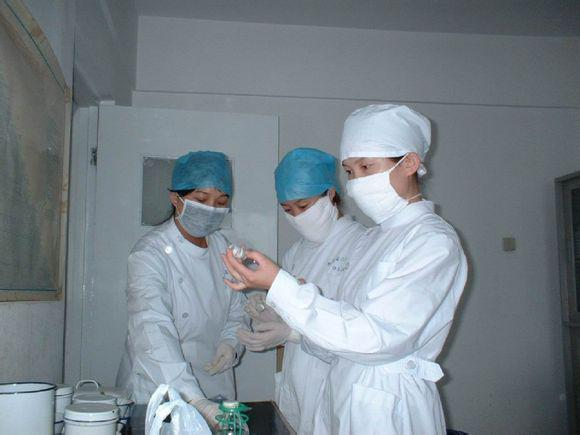OK: (348, 161, 419, 220), (279, 194, 336, 243), (184, 193, 229, 238)
